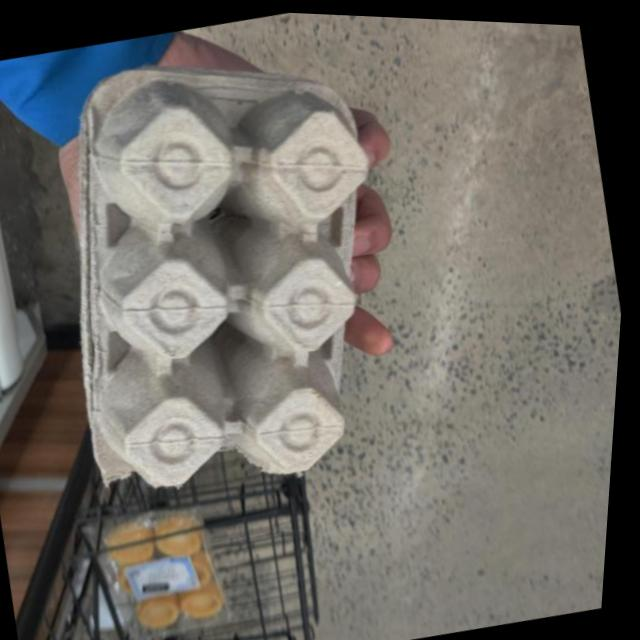Eggs: (20, 32, 431, 511)
